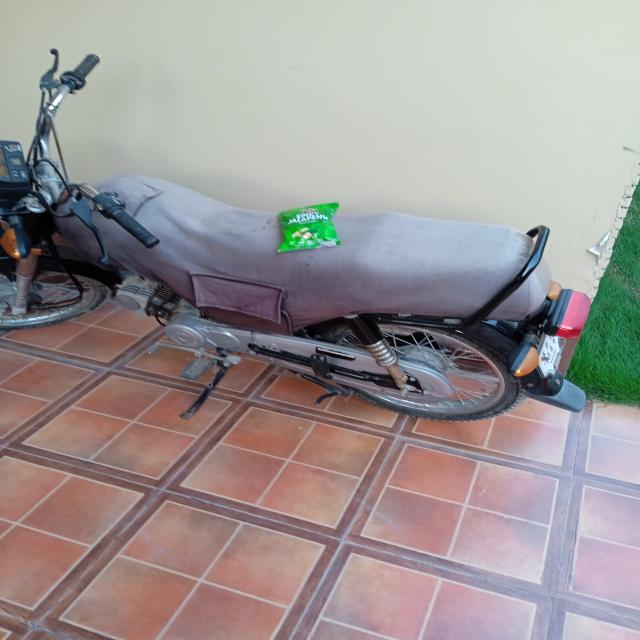Plastic: (272, 200, 344, 251)
